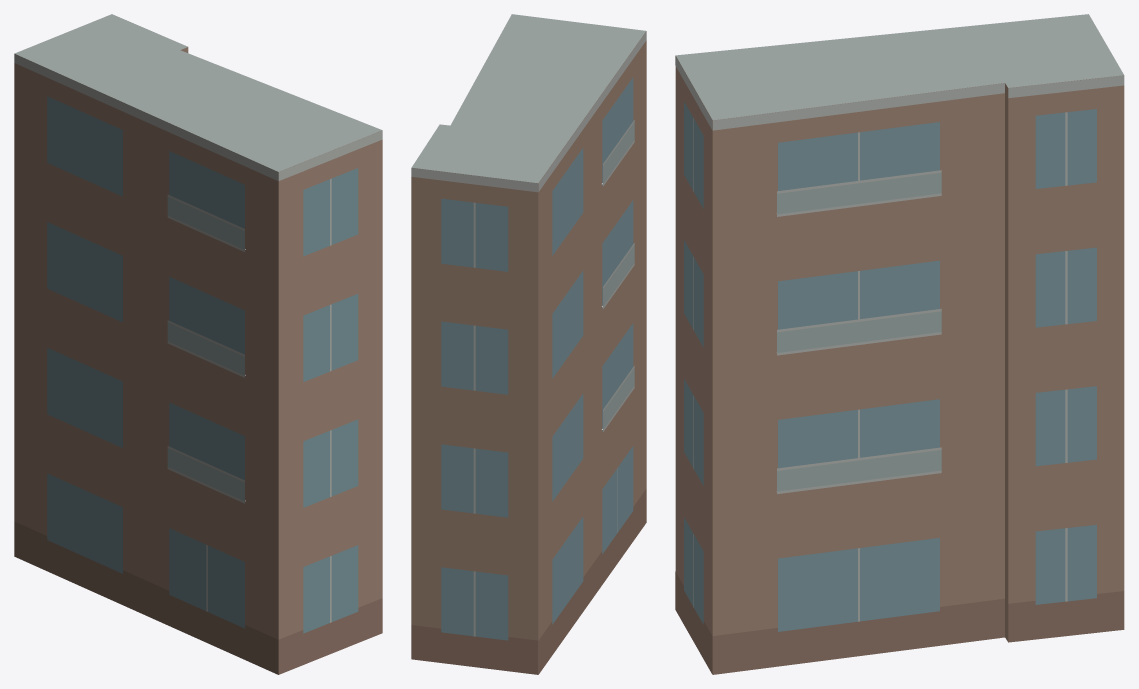
Rendered from survey-upis-32756285.glb.
3 renders of one model, left to right at view 1: azimuth 30°, elevation 25°; view 2: azimuth 150°, elevation 25°; view 3: azimuth 270°, elevation 25°, orthographic. The views are drawn at different scales.
Visible parts, largest first — view 1: survey-upis-32756285.tmp; view 2: survey-upis-32756285.tmp; view 3: survey-upis-32756285.tmp.
Boxes of the visible parts, <box> form: survey-upis-32756285.tmp: <box>14,14,382,674</box>; survey-upis-32756285.tmp: <box>411,14,646,674</box>; survey-upis-32756285.tmp: <box>675,14,1124,674</box>.
Size of the model in its own units: 5.44 by 13.2 by 9.69.
